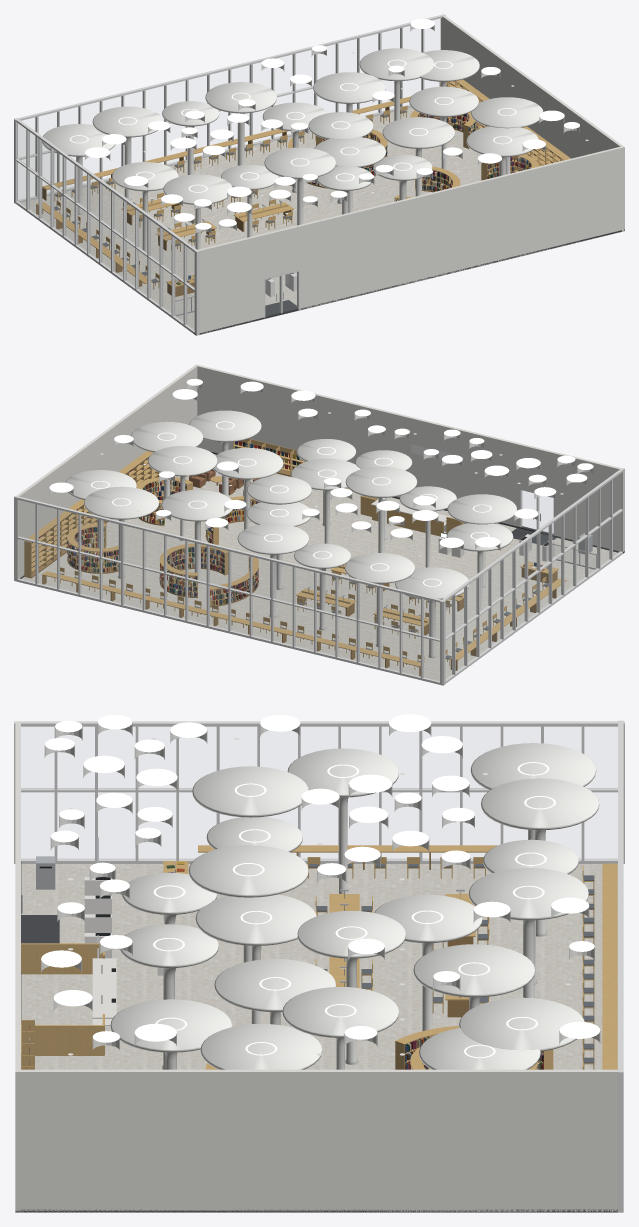
Rendered from soclib_interior.glb.
3 views of the same model, one above another, from view 1: azimuth 30°, elevation 25°; view 2: azimuth 150°, elevation 25°; view 3: azimuth 270°, elevation 25° (orthographic). The views are drawn at different scales.
Parts seen in each view (by area): view 1: WALL_front_wall, soclib_columns, soclib_floor, WALL_back_glass, WALL_left_glass, soclib_bamboo, WALL_left_mull, WALL_right_wall, soclib_skylights, WALL_back_mull, soclib_lightwells, soclib_books (+5 smaller); view 2: soclib_columns, soclib_floor, WALL_back_glass, WALL_front_wall, soclib_bamboo, WALL_back_mull, WALL_left_glass, WALL_left_mull, WALL_right_wall, soclib_skylights, soclib_books, soclib_bamboo_dark (+6 smaller); view 3: WALL_right_wall, soclib_columns, soclib_floor, WALL_left_glass, soclib_skylights, soclib_bamboo, WALL_left_mull, soclib_lightwells, soclib_white, WALL_back_mull, WALL_front_wall, soclib_uplights (+4 smaller).
Boxes of the visible parts, <box> form: WALL_front_wall: <box>194,146,624,333</box>; soclib_columns: <box>42,48,543,266</box>; soclib_floor: <box>16,107,624,335</box>; WALL_back_glass: <box>23,19,440,179</box>; WALL_left_glass: <box>17,123,193,329</box>; soclib_bamboo: <box>36,79,570,289</box>; WALL_left_mull: <box>14,118,199,335</box>; WALL_right_wall: <box>440,15,624,231</box>; soclib_skylights: <box>85,18,579,229</box>; WALL_back_mull: <box>14,14,445,203</box>; soclib_lightwells: <box>85,23,579,233</box>; soclib_books: <box>169,81,559,284</box>; soclib_columns: <box>65,410,516,658</box>; soclib_floor: <box>15,454,623,684</box>; WALL_back_glass: <box>19,500,439,680</box>; WALL_front_wall: <box>195,364,624,551</box>; soclib_bamboo: <box>24,438,566,669</box>; WALL_back_mull: <box>14,496,445,685</box>; WALL_left_glass: <box>446,474,620,678</box>; WALL_left_mull: <box>440,468,624,685</box>; WALL_right_wall: <box>14,364,197,579</box>; soclib_skylights: <box>49,378,593,547</box>; soclib_books: <box>31,441,553,604</box>; soclib_bamboo_dark: <box>31,469,557,676</box>; WALL_right_wall: <box>15,1069,621,1212</box>; soclib_columns: <box>110,743,599,1069</box>; soclib_floor: <box>15,864,617,1212</box>; WALL_left_glass: <box>21,727,617,858</box>; soclib_skylights: <box>41,714,600,1042</box>; soclib_bamboo: <box>21,845,617,1069</box>; WALL_left_mull: <box>14,721,624,863</box>; soclib_lightwells: <box>41,722,600,1050</box>; soclib_white: <box>68,737,570,1055</box>; WALL_back_mull: <box>618,720,623,1212</box>; WALL_front_wall: <box>15,721,20,1212</box>; soclib_uplights: <box>153,762,555,1058</box>.
Size of the model in its own units: 30.1 by 6.17 by 22.1.
Materials: 22 (3 with a texture image).
